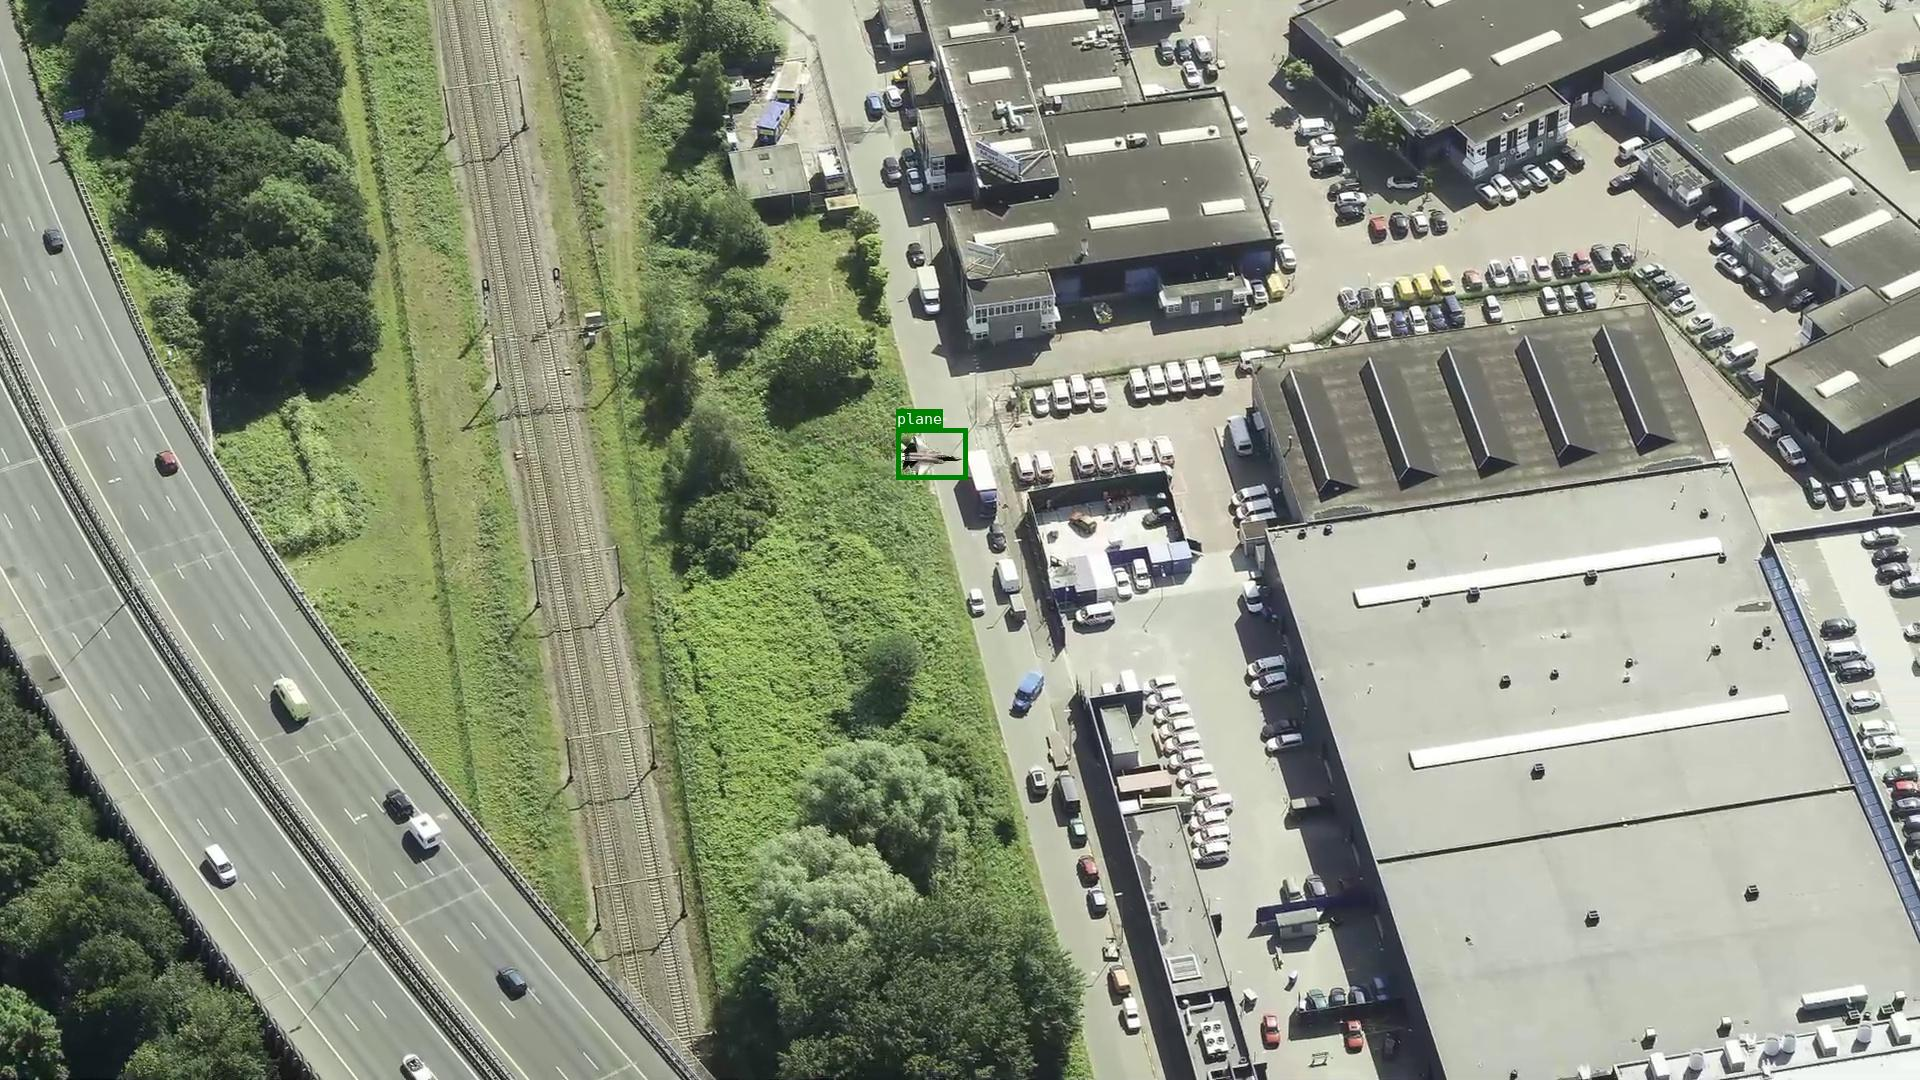plane: (895, 429, 967, 479)
